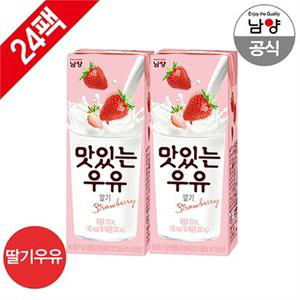milk: (65, 49, 237, 257)
